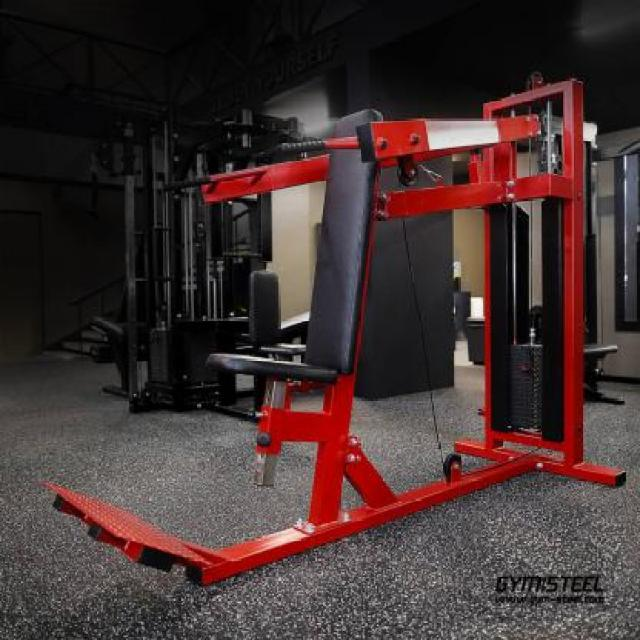shoulder press machine: (40, 65, 640, 589)
